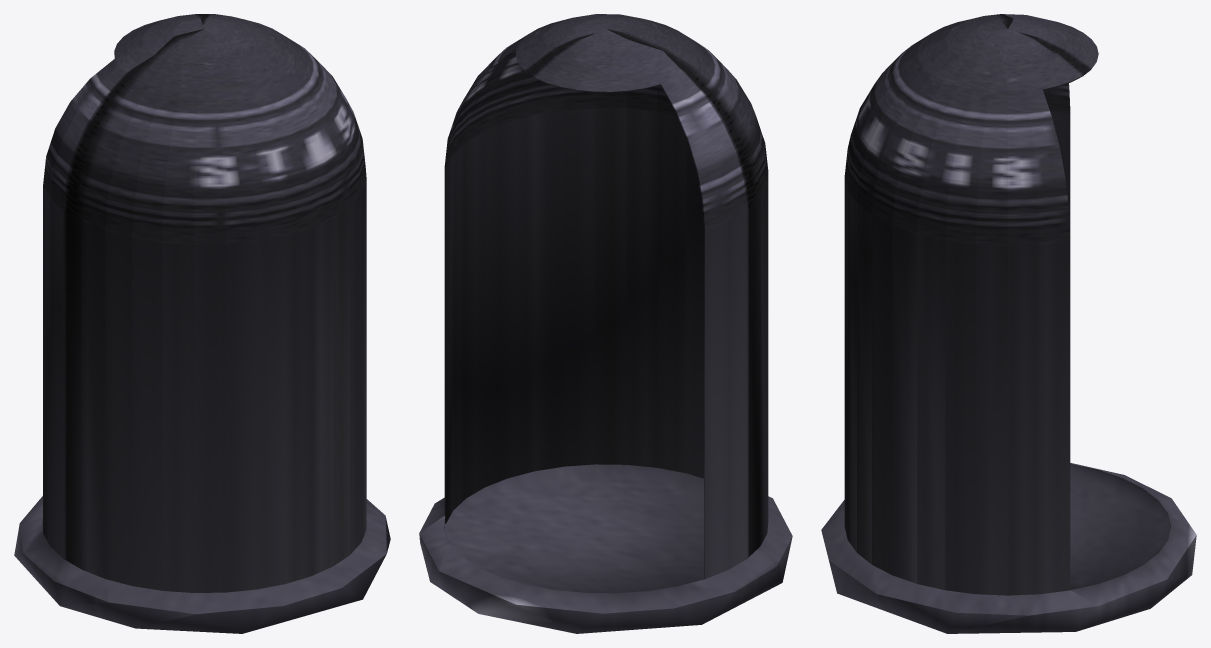
Rendered from SuitCapsule.fbx.
3 views of the same model, side by side, from view 1: azimuth 30°, elevation 25°; view 2: azimuth 150°, elevation 25°; view 3: azimuth 270°, elevation 25° (orthographic).
Visible parts, largest first — view 1: Container.001; view 2: Container.001; view 3: Container.001.
Part boxes in pixels (left/top/right/bottom): Container.001: left=14, top=14, right=390, bottom=633; Container.001: left=419, top=14, right=792, bottom=633; Container.001: left=821, top=14, right=1196, bottom=633.
Size of the model in its own units: 2.28 by 3.57 by 2.3.
